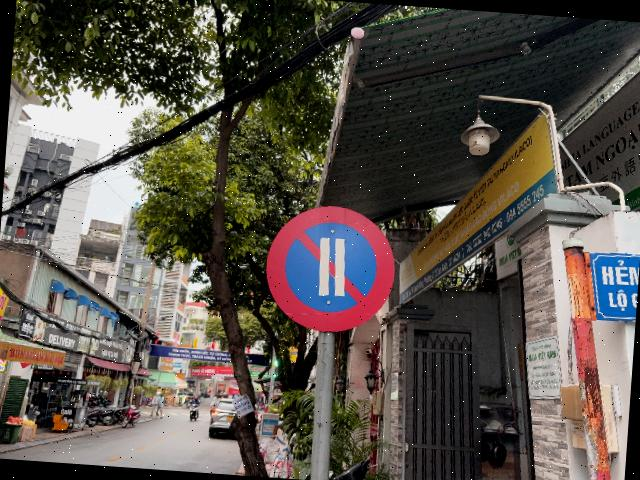cam-do-xe-ngay-chan: (261, 201, 399, 334)
